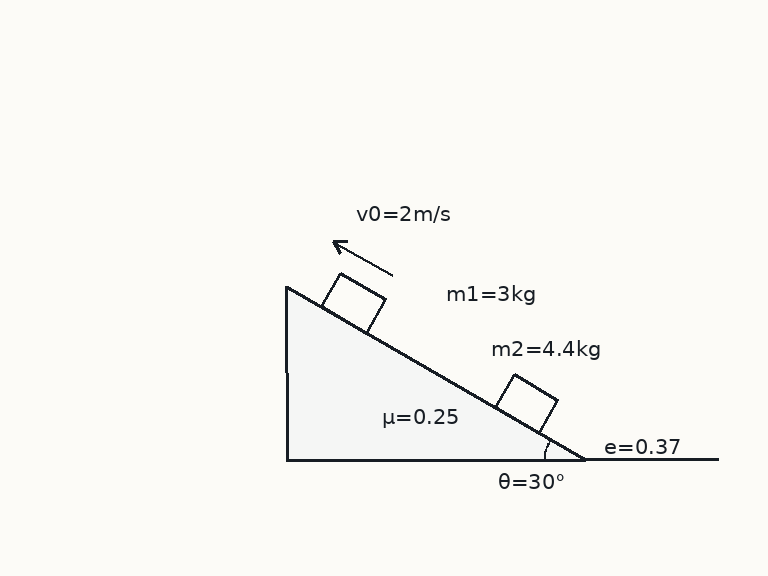block: (318, 270, 388, 335), (493, 373, 560, 435)
ramp: (284, 284, 587, 461)
